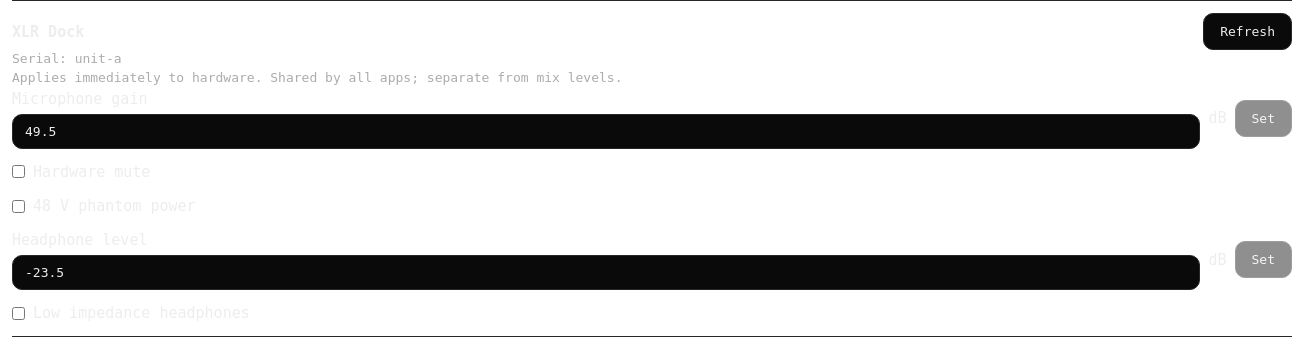
requires refresh after a failed write instead of reusing stale state
What coordinates should you click on to do the following:
click the checkbox labelled "48 V phantom power"
I would click on:
 (18, 206)
Its box is [12,200,25,212].
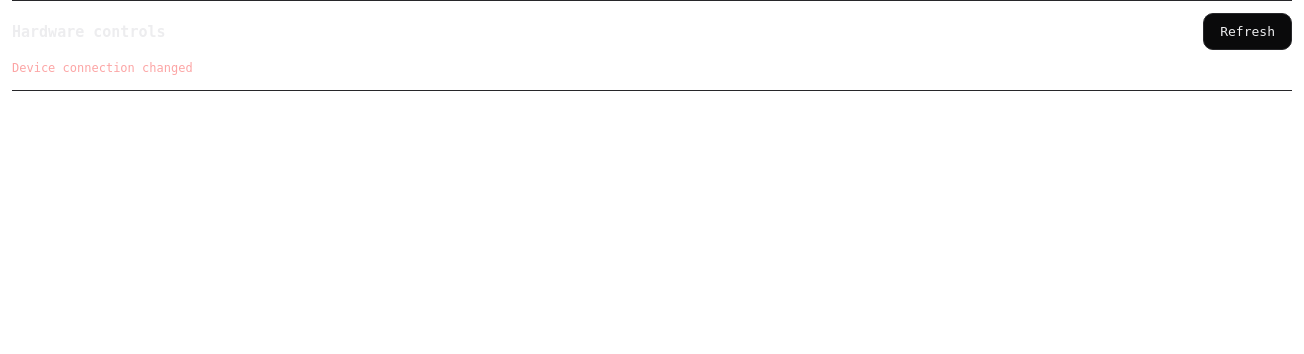
Now the message "Device connection changed" is shown, box [12,61,193,75]
Now no checkboxes are shown
